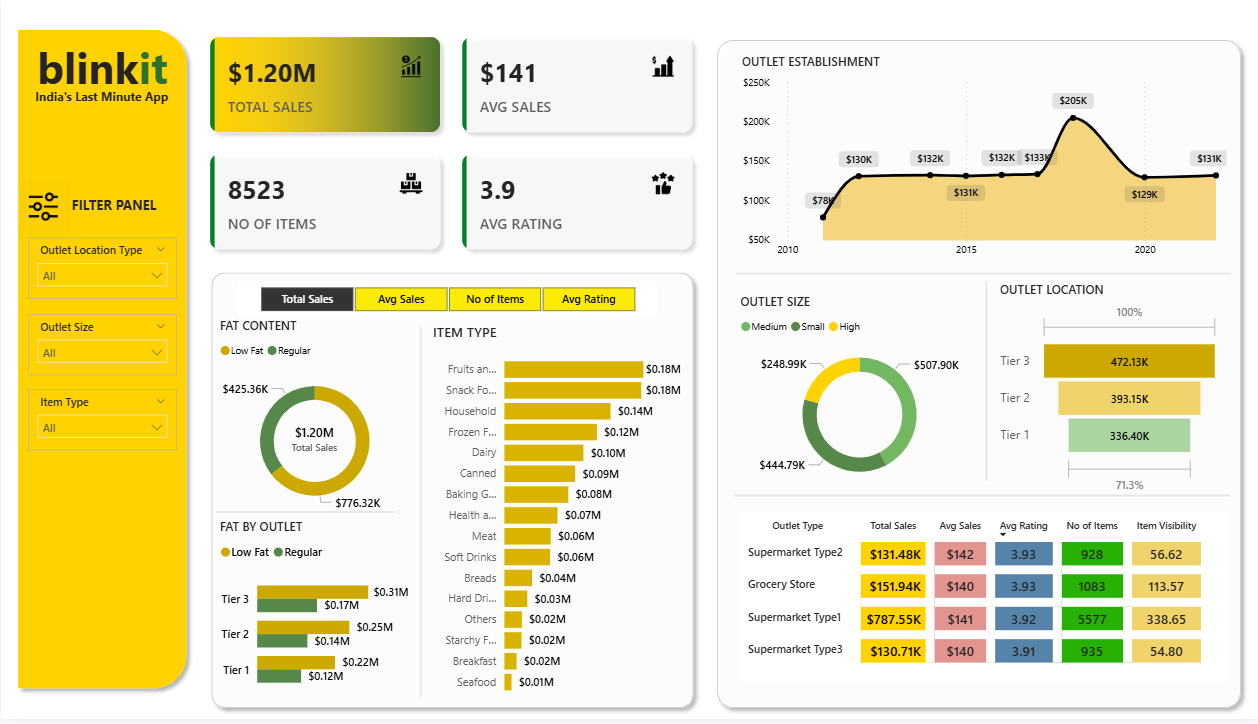

Layout of this report page (visuals, bound fields, positions):
{"tool":"powerbi","page":{"name":"Page 1","canvas":[1400,800],"ordinal":0},"visuals":[{"type":"shape","box":[9.9,24.8,205.4,750.2],"z":0},{"type":"textbox","box":[262.5,626.3,370,124],"z":1000},{"type":"textbox","box":[26.5,36.4,172.2,74.5],"z":2000},{"type":"textbox","box":[262.5,487.8,370,138.5],"z":3000},{"type":"textbox","box":[26.5,92.7,170.6,34.8],"z":4000},{"type":"cardVisual","fields":{"Data":["BlinkIT Grocery Data.Total Sales","BlinkIT Grocery Data.Avg Sales","BlinkIT Grocery Data.No of Items","BlinkIT Grocery Data.Avg Rating"]},"box":[215,25,571.7,270],"z":5000},{"type":"shape","box":[225,295,553.3,501.7],"z":6000},{"type":"donutChart","title":" FAT CONTENT","fields":{"Y":["BlinkIT Grocery Data.Total Sales"],"Category":["BlinkIT Grocery Data.Item Fat Content"]},"box":[238.3,353.3,220,230],"z":7000},{"type":"slicer","fields":{"Values":["Metrics.Metrics"]},"box":[263.3,313.3,465,40],"z":8000},{"type":"cardVisual","fields":{"Data":["BlinkIT Grocery Data.Total Sales"]},"box":[301.7,455,93.3,66.7],"z":9000},{"type":"clusteredBarChart","title":"FAT BY OUTLET","fields":{"Y":["BlinkIT Grocery Data.Total Sales"],"Category":["BlinkIT Grocery Data.Outlet Location Type"],"Series":["BlinkIT Grocery Data.Item Fat Content"]},"box":[238.6,576.2,219.2,205],"z":10000},{"type":"shape","box":[238.3,556.7,198.3,26.7],"z":11000},{"type":"shape","box":[458.3,365,16.7,410],"z":12000},{"type":"barChart","title":"ITEM TYPE","fields":{"Y":["BlinkIT Grocery Data.Total Sales"],"Category":["BlinkIT Grocery Data.Item Type"]},"box":[475.3,359.4,284.9,422.3],"z":13000},{"type":"shape","box":[786.7,36.7,600,760],"z":14000},{"type":"lineChart","title":"OUTLET ESTABLISHMENT","fields":{"Category":["BlinkIT Grocery Data.Outlet Establishment Year"],"Y":["BlinkIT Grocery Data.Total Sales"]},"box":[818.3,60,548.3,235],"z":15000},{"type":"shape","box":[816.7,296.7,550,16.7],"z":16000},{"type":"donutChart","title":"OUTLET SIZE","fields":{"Y":["BlinkIT Grocery Data.Total Sales"],"Category":["BlinkIT Grocery Data.Outlet Size"]},"box":[816.7,326.7,274,225],"z":17000},{"type":"shape","box":[1085,313.3,20,221.7],"z":18000},{"type":"funnel","title":"OUTLET LOCATION","fields":{"Category":["BlinkIT Grocery Data.Outlet Location Type"],"Y":["Sum(BlinkIT Grocery Data.Sales)"]},"box":[1105,313.3,253.3,241.7],"z":19000},{"type":"pivotTable","fields":{"Rows":["BlinkIT Grocery Data.Outlet Type"],"Values":["BlinkIT Grocery Data.Total Sales","BlinkIT Grocery Data.Avg Sales","BlinkIT Grocery Data.Avg Rating","BlinkIT Grocery Data.No of Items","Sum(BlinkIT Grocery Data.Item Visibility)"]},"box":[820,570,543.3,190],"z":20000},{"type":"shape","box":[815,543.3,550,16.7],"z":21000},{"type":"slicer","fields":{"Values":["BlinkIT Grocery Data.Outlet Location Type"]},"box":[29.8,265,165.6,67.9],"z":22000},{"type":"slicer","fields":{"Values":["BlinkIT Grocery Data.Outlet Size"]},"box":[29.8,349.5,165.6,67.9],"z":23000},{"type":"slicer","fields":{"Values":["BlinkIT Grocery Data.Item Type"]},"box":[29.8,433.9,165.6,67.9],"z":24000},{"type":"textbox","box":[68.9,213.8,114.9,38.9],"z":25000},{"type":"image","box":[10.6,194.4,74.2,70.7],"z":26000}]}

Visuals, with their boxes in screenshot pixels (x1, y1, x2, y2), scaled from the page's 1400x800 canvas onto the 1258x724 screenshot:
shape: x1=9, y1=22, x2=193, y2=701
textbox: x1=236, y1=567, x2=568, y2=679
textbox: x1=24, y1=33, x2=179, y2=100
textbox: x1=236, y1=441, x2=568, y2=567
textbox: x1=24, y1=84, x2=177, y2=115
cardVisual - BlinkIT Grocery Data.Total Sales x BlinkIT Grocery Data.Avg Sales: x1=193, y1=23, x2=707, y2=267
shape: x1=202, y1=267, x2=699, y2=721
" FAT CONTENT" donutChart: x1=214, y1=320, x2=412, y2=528
slicer - Metrics.Metrics: x1=237, y1=284, x2=654, y2=320
cardVisual - BlinkIT Grocery Data.Total Sales: x1=271, y1=412, x2=355, y2=472
"FAT BY OUTLET" clusteredBarChart: x1=214, y1=521, x2=411, y2=707
shape: x1=214, y1=504, x2=392, y2=528
shape: x1=412, y1=330, x2=427, y2=701
"ITEM TYPE" barChart: x1=427, y1=325, x2=683, y2=707
shape: x1=707, y1=33, x2=1246, y2=721
"OUTLET ESTABLISHMENT" lineChart: x1=735, y1=54, x2=1228, y2=267
shape: x1=734, y1=269, x2=1228, y2=284
"OUTLET SIZE" donutChart: x1=734, y1=296, x2=980, y2=499
shape: x1=975, y1=284, x2=993, y2=484
"OUTLET LOCATION" funnel: x1=993, y1=284, x2=1221, y2=502
pivotTable - BlinkIT Grocery Data.Outlet Type x BlinkIT Grocery Data.Total Sales: x1=737, y1=516, x2=1225, y2=688
shape: x1=732, y1=492, x2=1227, y2=507
slicer - BlinkIT Grocery Data.Outlet Location Type: x1=27, y1=240, x2=176, y2=301
slicer - BlinkIT Grocery Data.Outlet Size: x1=27, y1=316, x2=176, y2=378
slicer - BlinkIT Grocery Data.Item Type: x1=27, y1=393, x2=176, y2=454
textbox: x1=62, y1=193, x2=165, y2=229
image: x1=10, y1=176, x2=76, y2=240
